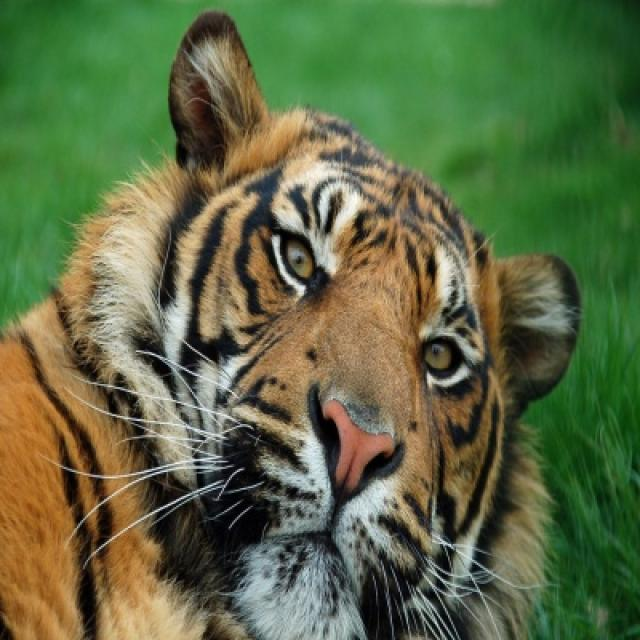Tiger: (1, 18, 582, 633)
